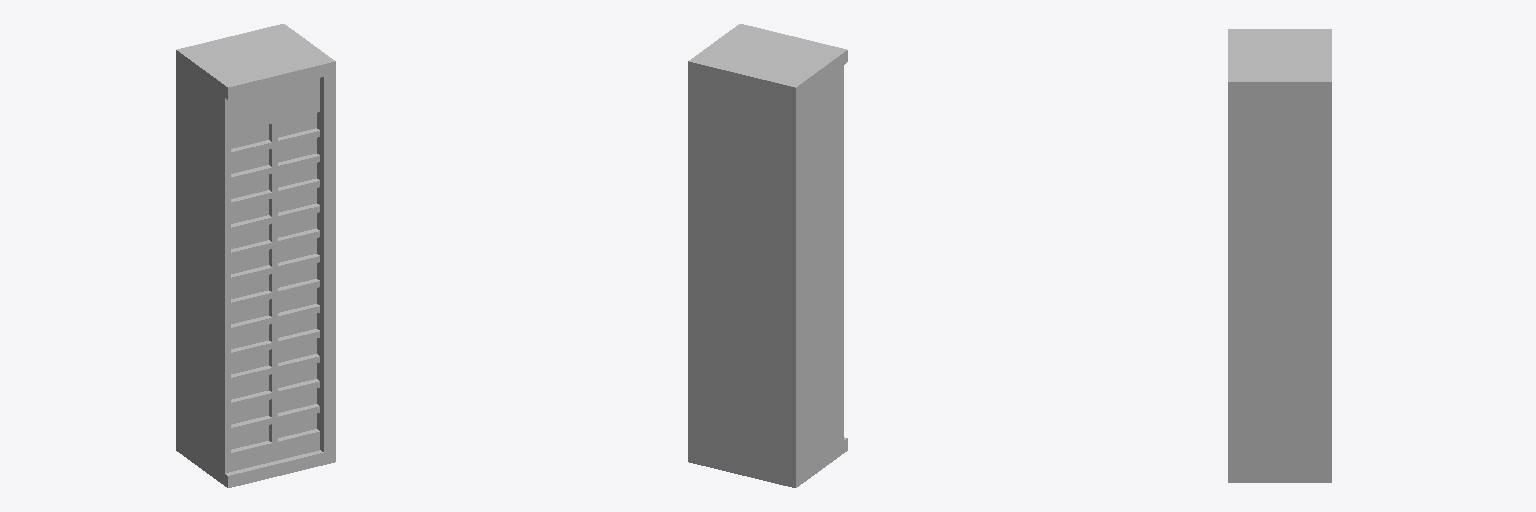
The model's file is The Vault-17.obj.
3 renders of one model, left to right at view 1: azimuth 30°, elevation 25°; view 2: azimuth 150°, elevation 25°; view 3: azimuth 270°, elevation 25°, orthographic.
Parts seen in each view (by area): view 1: The Vault-17; view 2: The Vault-17; view 3: The Vault-17.
Boxes of the visible parts, x1=… form: The Vault-17: x1=176, y1=24, x2=335, y2=487; The Vault-17: x1=688, y1=24, x2=847, y2=487; The Vault-17: x1=1228, y1=29, x2=1331, y2=482.
Size of the model in its own units: 18 by 64 by 15.